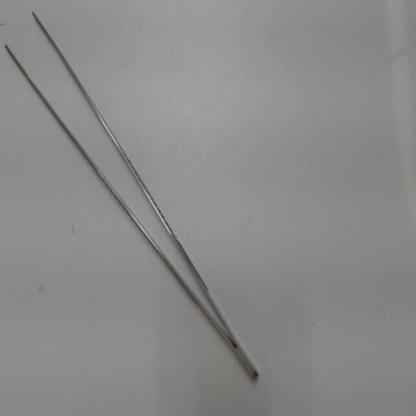DeBakey Dissector: (3, 8, 268, 397)
